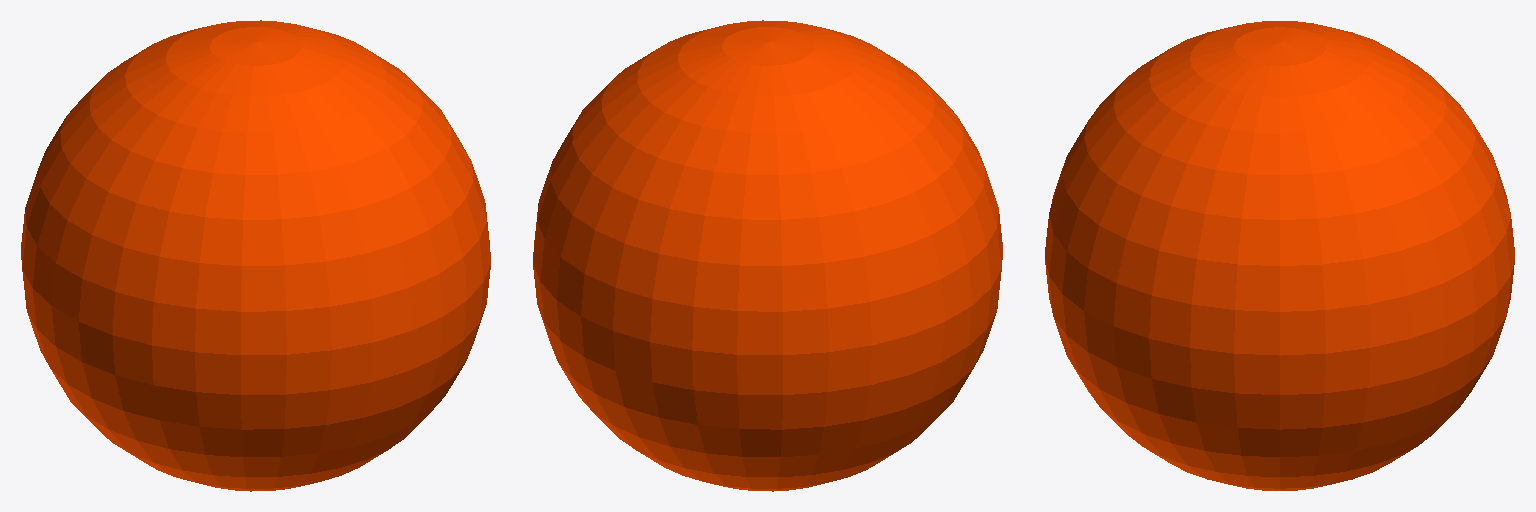
robot.urdf — ping_pong_ball:
<?xml version="1.0"?>
<robot name="ping_pong_ball">
  <link name="ball">
    <inertial>
      <origin xyz="0 0 0" />
      <mass value="0.0027" />
      <inertia ixx="4.32e-7" ixy="0" ixz="0" iyy="4.32e-7" iyz="0" izz="4.32e-7" />
    </inertial>
    <visual>
      <geometry><sphere radius="0.02" /></geometry>
      <material name="orange"><color rgba="1 0.35 0.02 1" /></material>
    </visual>
    <collision>
      <geometry><sphere radius="0.02" /></geometry>
    </collision>
  </link>
</robot>

--- Facts derived from the render (not from the file) ---
Views: 3 orthographic renders of the robot side by side, from view 1: azimuth 30°, elevation 25°; view 2: azimuth 150°, elevation 25°; view 3: azimuth 270°, elevation 25°.
Robot: ping_pong_ball — 1 links, 0 joints (none); root link ball; default pose: all joints at 0.
Visible links, largest first — view 1: ball; view 2: ball; view 3: ball.
Link boxes in pixels (<box>): ball: <box>21,20,490,491</box>; ball: <box>533,20,1002,491</box>; ball: <box>1045,21,1514,490</box>.
Bounding box of the posed robot: 0.04 × 0.04 × 0.04 m (x, y, z).
Geometry: primitives only (box / cylinder / sphere), no mesh files.
